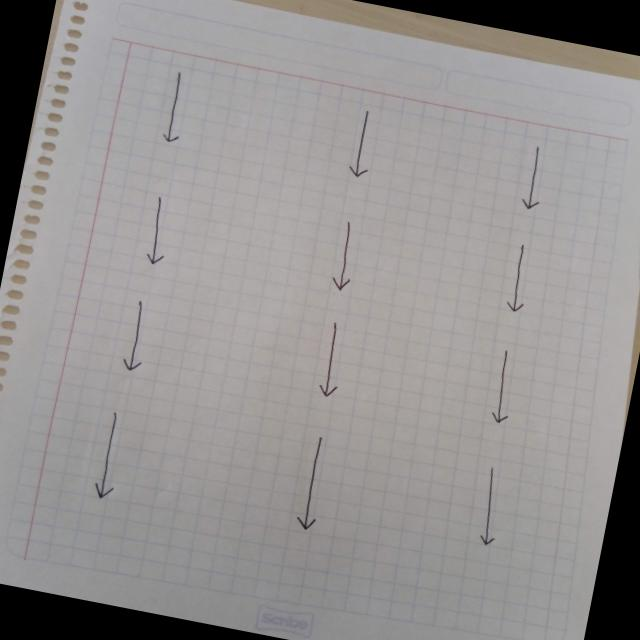arrow_line_down: (284, 429, 338, 536), (466, 464, 524, 558), (86, 408, 140, 508), (471, 341, 532, 428), (335, 106, 399, 188), (304, 318, 358, 402), (108, 292, 158, 372), (320, 218, 368, 295), (138, 192, 183, 274), (153, 64, 195, 148), (508, 146, 558, 214), (498, 242, 542, 318)
